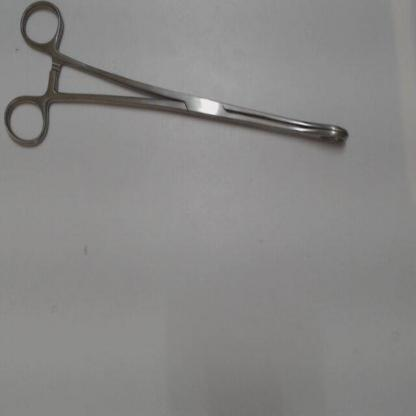Sponge Forceps: (2, 1, 357, 157)
